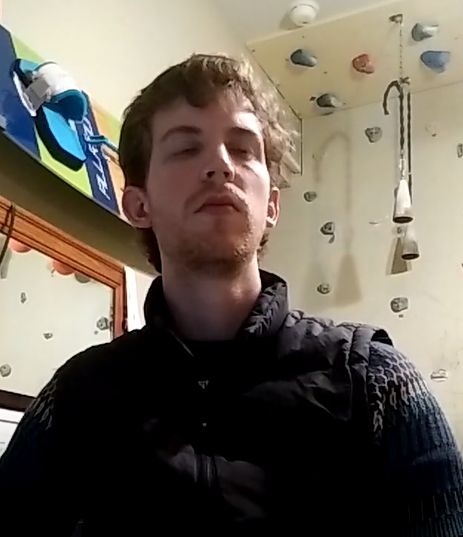Sleeping: (151, 125, 268, 172)
